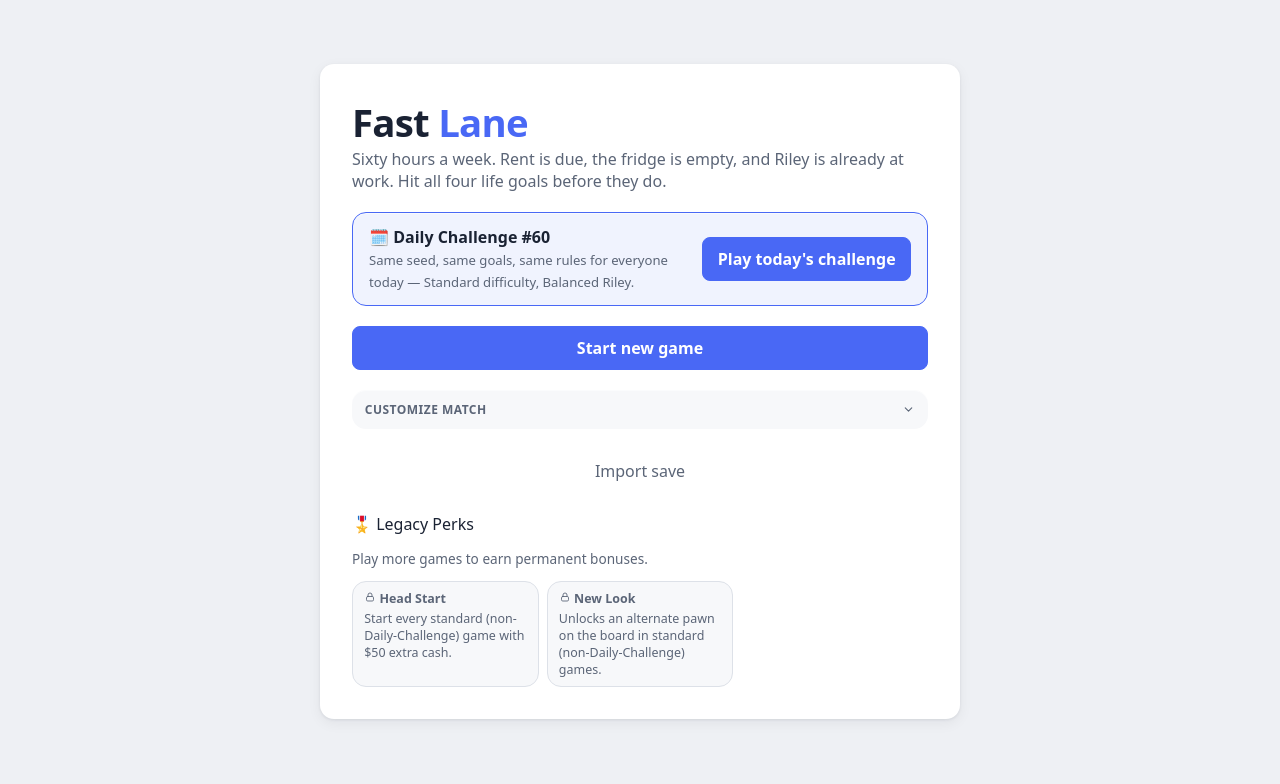
App › shows help automatically once, then only via the ? button
This screenshot has width=1280, height=784.
Click the button "Start new game": click(640, 348) [352,326,928,370]
(page scrolled)
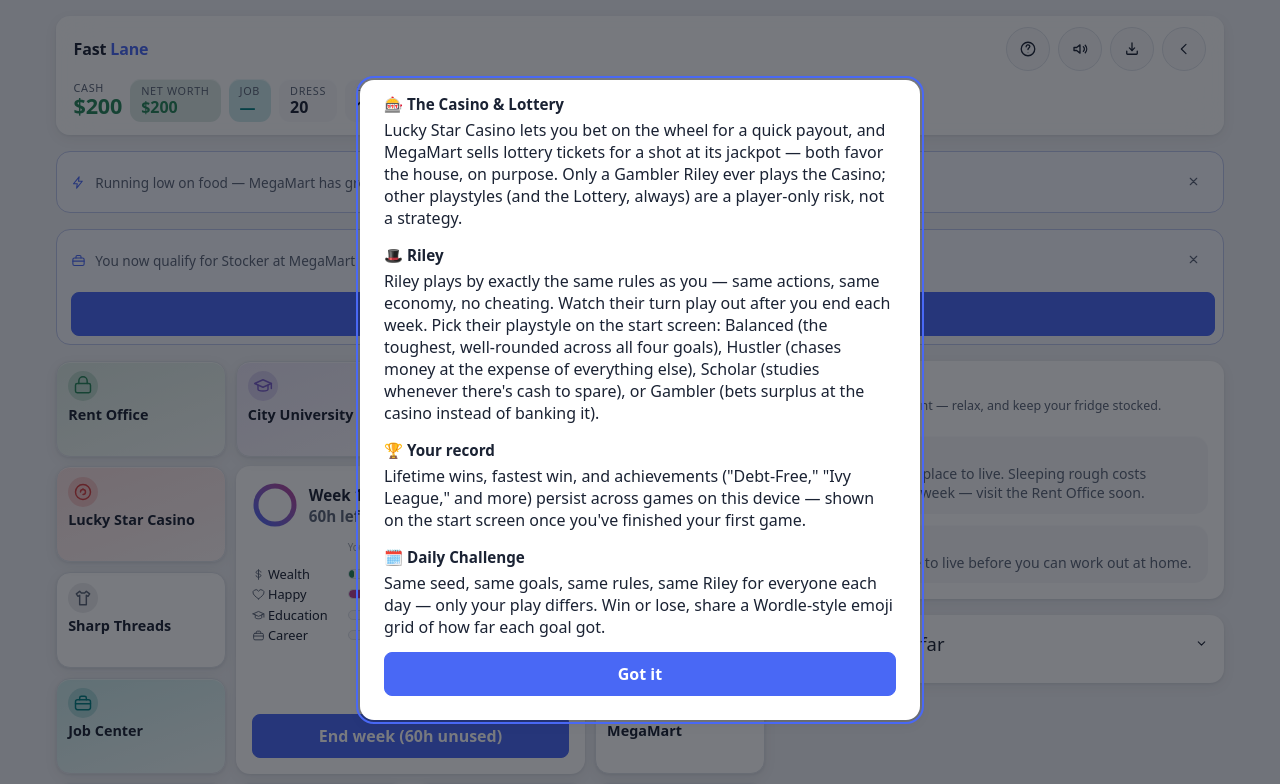
Check: the dialog "How to play" is shown, box [360,80,920,720]
Click the button "Got it": click(640, 674) [384,652,896,696]
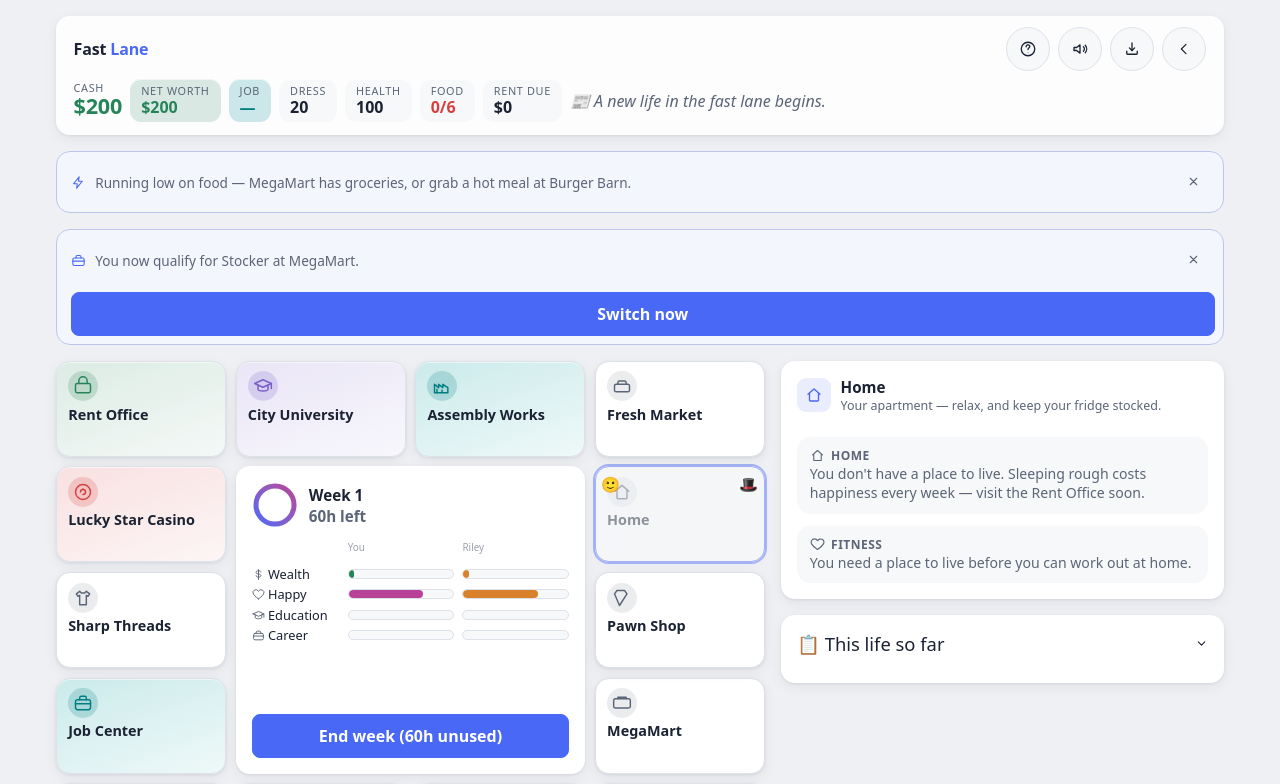
Check: the dialog "How to play" is not shown
Click the button named "Help": click(1028, 49) [1006,27,1050,71]
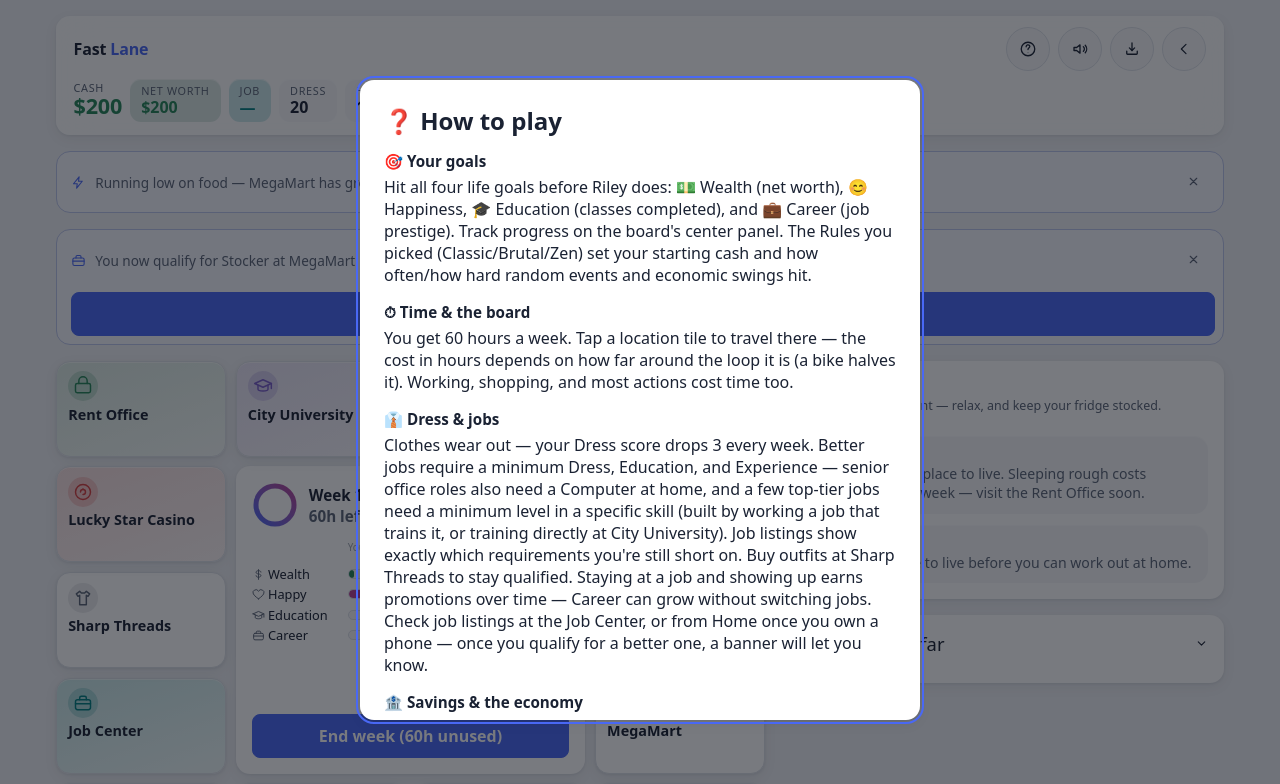
Check: the dialog "How to play" is shown, box [360,80,920,720]
